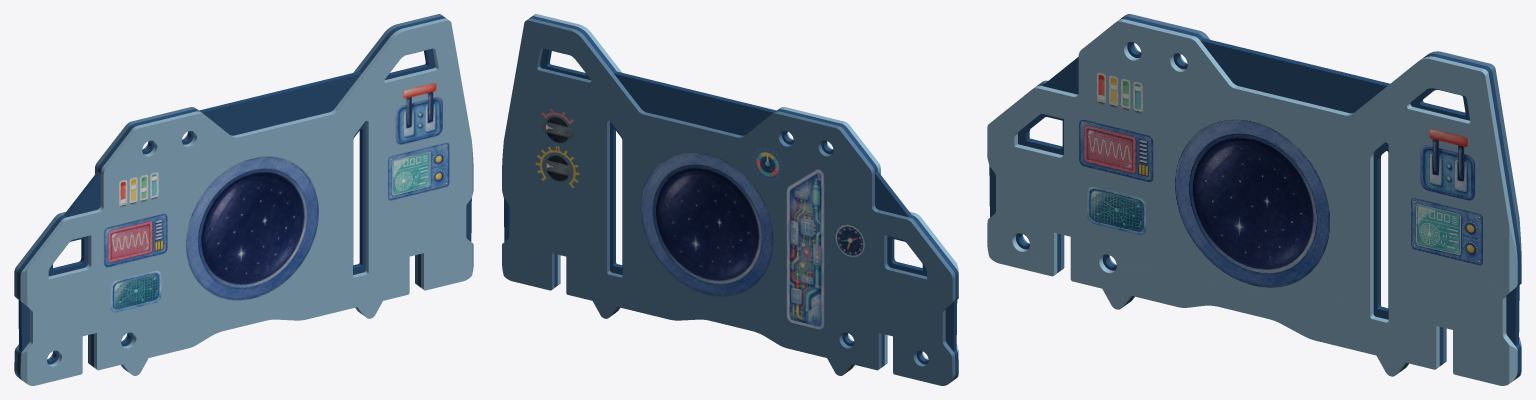
The model's file is door-top.glb.
3 views of the same model, side by side, from view 1: azimuth 30°, elevation 25°; view 2: azimuth 150°, elevation 25°; view 3: azimuth 330°, elevation 25° (orthographic). The views are drawn at different scales.
Parts seen in each view (by area): view 1: door-top; view 2: door-top; view 3: door-top.
Boxes of the visible parts, x1=… form: door-top: x1=14, y1=14, x2=473, y2=385; door-top: x1=502, y1=14, x2=958, y2=385; door-top: x1=987, y1=14, x2=1521, y2=385.
Size of the model in its own units: 1066 by 628 by 36.
Materials: 5 (2 with a texture image).
